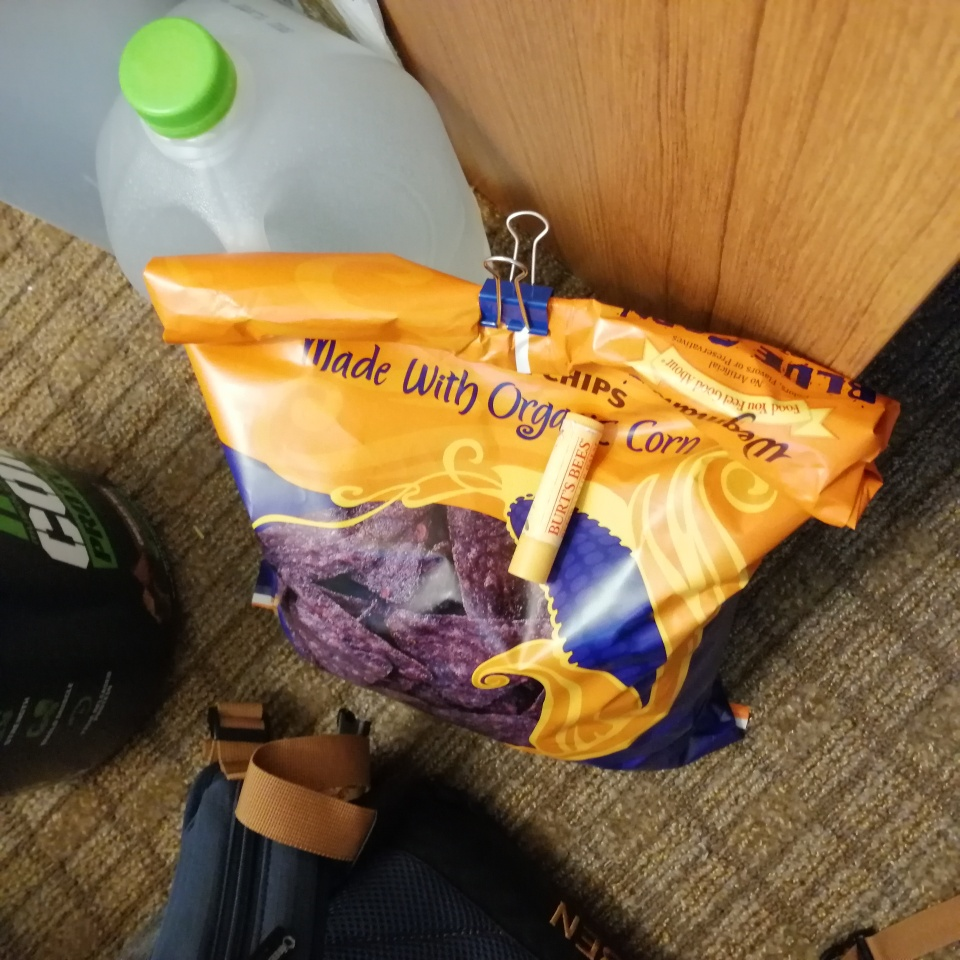chapstick: (506, 413, 604, 585)
